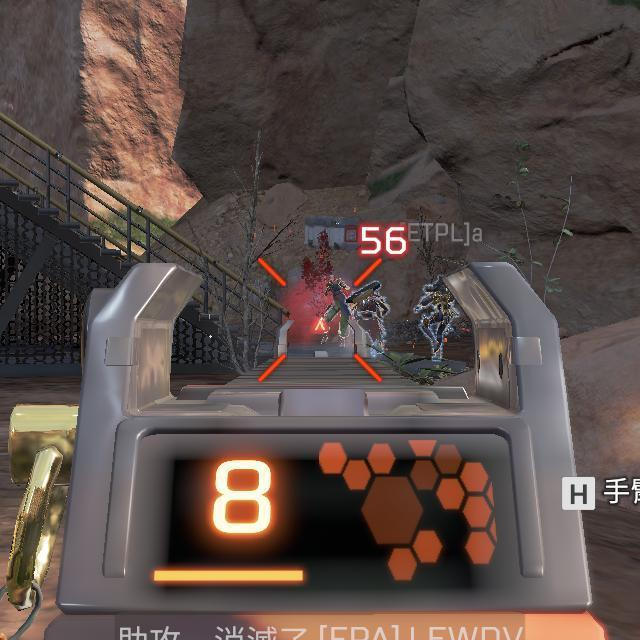avatar: (415, 277, 462, 364), (350, 280, 393, 360), (319, 273, 351, 349)
